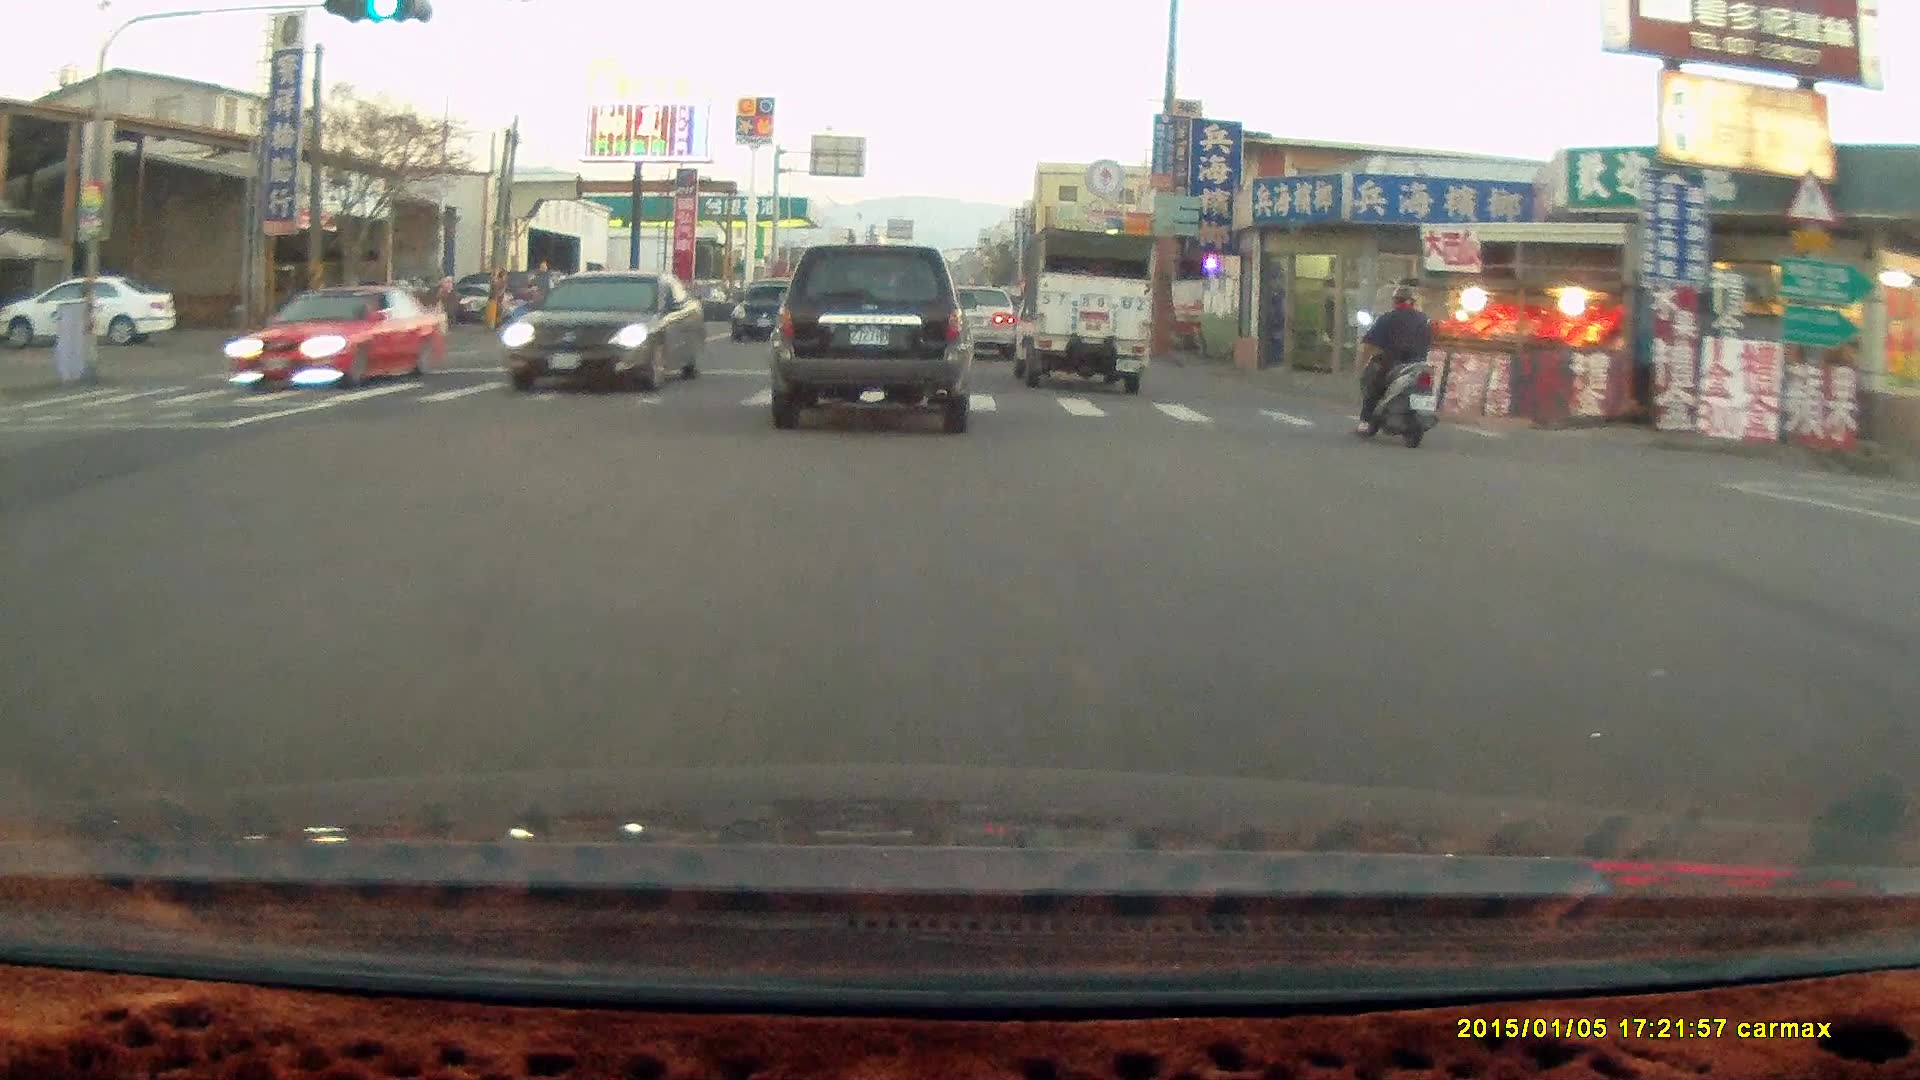rider: (1349, 289, 1439, 455)
vehicle: (768, 243, 979, 433), (506, 274, 709, 400), (1010, 226, 1157, 394), (223, 285, 442, 393), (6, 271, 181, 346), (936, 284, 1018, 360), (956, 284, 1030, 364), (731, 277, 818, 344)
